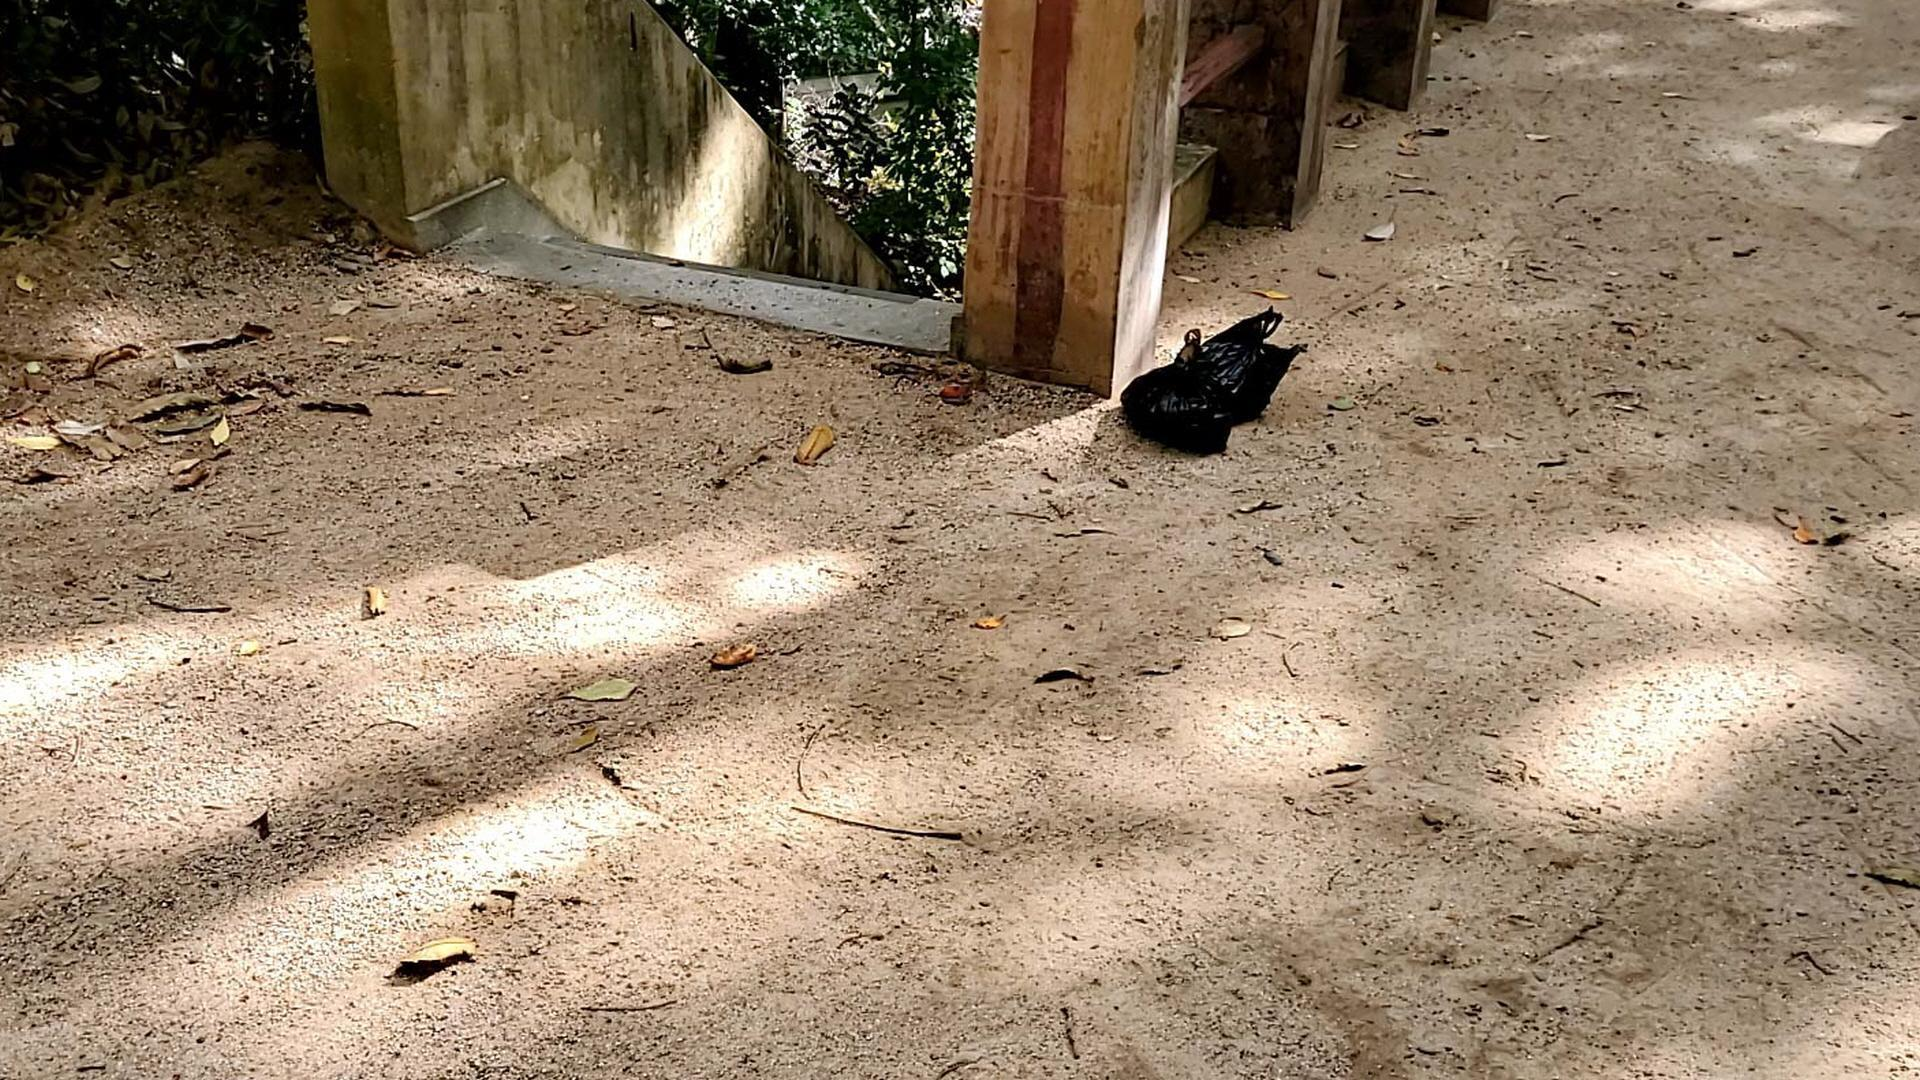black_bag: (1197, 301, 1312, 429)
white_bag: (1101, 324, 1251, 463)
